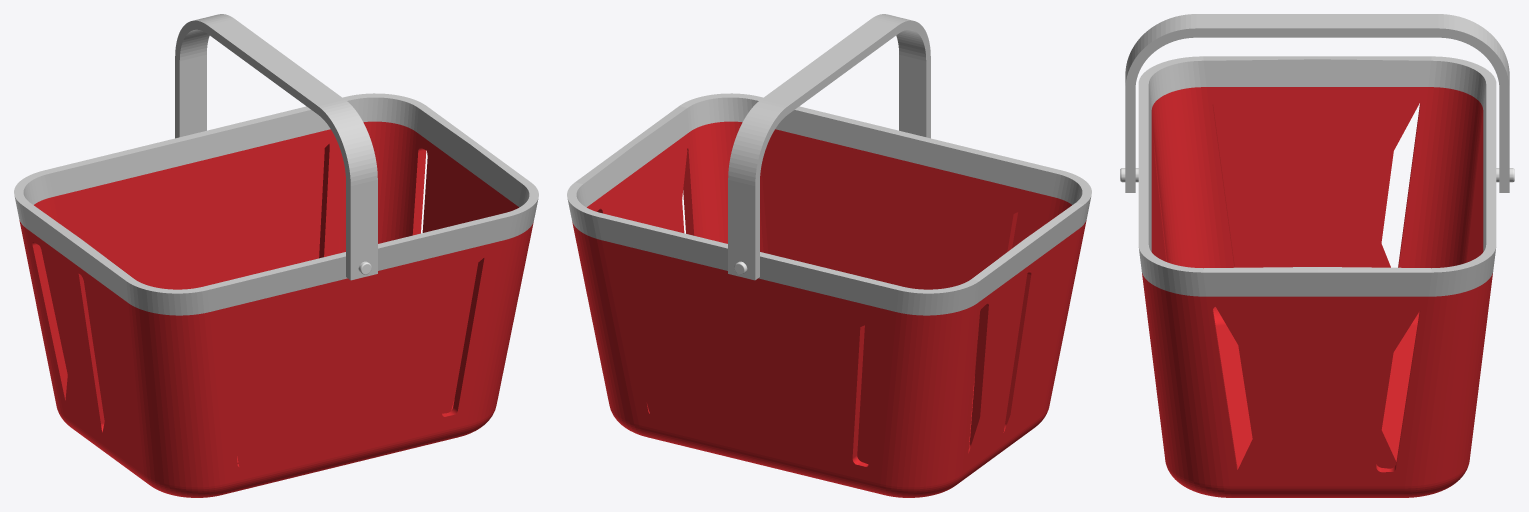
File: Cestino spesa.fbx
3 views of the same model, side by side, from view 1: azimuth 30°, elevation 25°; view 2: azimuth 150°, elevation 25°; view 3: azimuth 270°, elevation 25° (orthographic). The views are drawn at different scales.
Visible parts, largest first — view 1: Cube, Cube.009; view 2: Cube, Cube.009; view 3: Cube, Cube.009.
Part boxes in pixels (x1,y1,x2,y2): Cube: (14,93,538,497); Cube.009: (175,14,377,280); Cube: (567,93,1091,497); Cube.009: (728,14,930,280); Cube: (1138,56,1496,497); Cube.009: (1125,14,1509,192).
Size of the model in its own units: 50 by 42.46 by 38.55.
